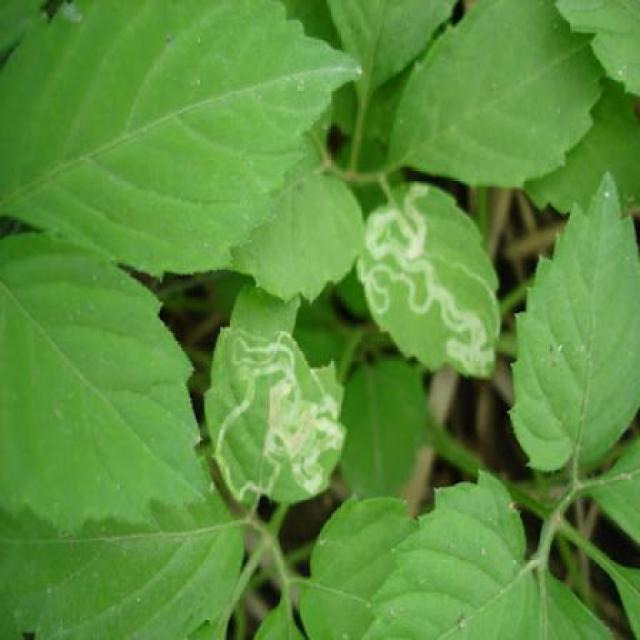Leaf Miner: (197, 306, 350, 518), (353, 180, 507, 383)
